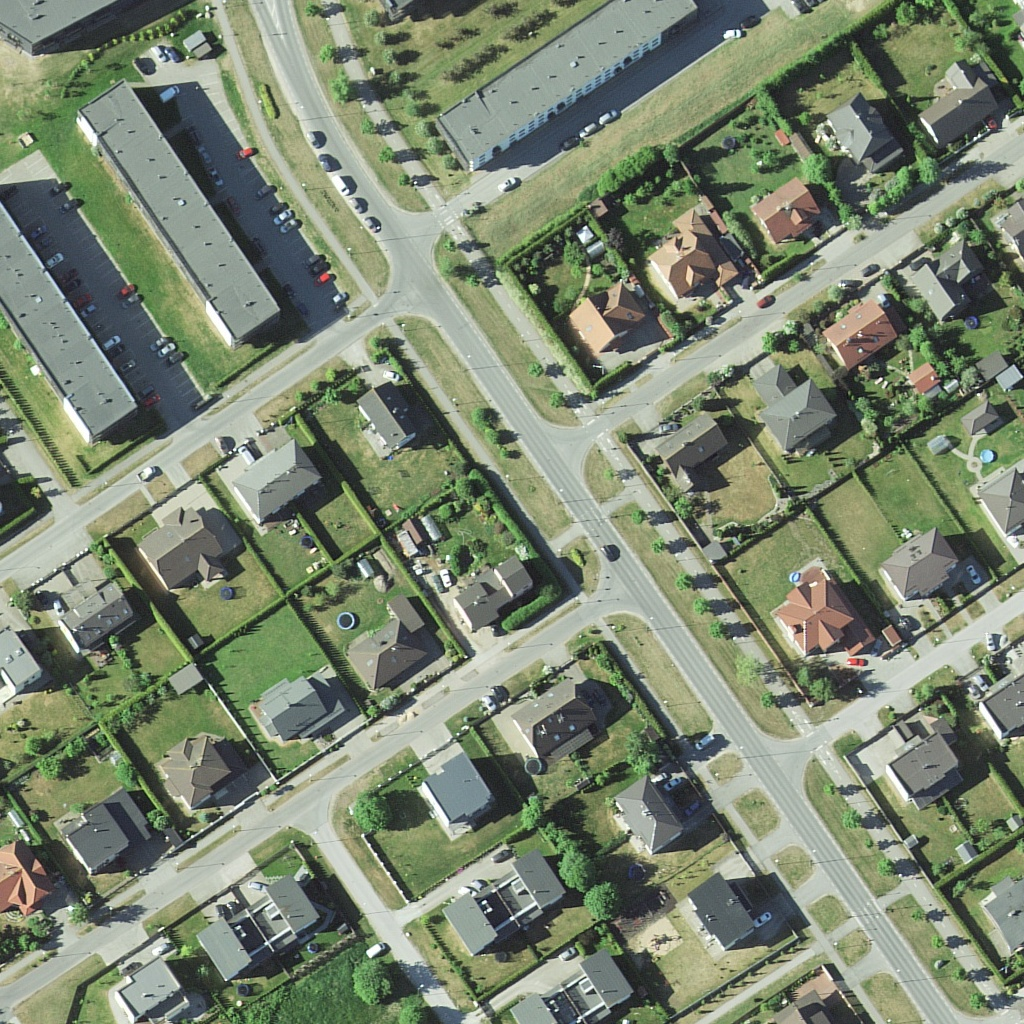building: (82, 82, 289, 348), (427, 4, 692, 172), (655, 211, 738, 302), (780, 567, 860, 660), (145, 507, 232, 588), (516, 679, 597, 765), (652, 414, 733, 497), (238, 443, 317, 528), (885, 730, 965, 812), (914, 235, 993, 317), (452, 550, 535, 626), (615, 775, 685, 865), (893, 518, 960, 611), (759, 364, 837, 443), (929, 61, 994, 154), (831, 90, 900, 177), (113, 960, 218, 1017), (417, 754, 497, 828), (361, 600, 426, 690), (687, 871, 760, 951), (255, 674, 330, 751), (818, 298, 902, 358), (357, 375, 421, 453), (569, 281, 642, 347), (163, 739, 232, 806), (68, 806, 133, 877), (57, 581, 135, 636), (198, 911, 259, 980), (757, 176, 819, 239), (443, 893, 504, 954), (515, 847, 566, 915), (977, 463, 1024, 536), (274, 874, 325, 935), (582, 949, 638, 1004)
